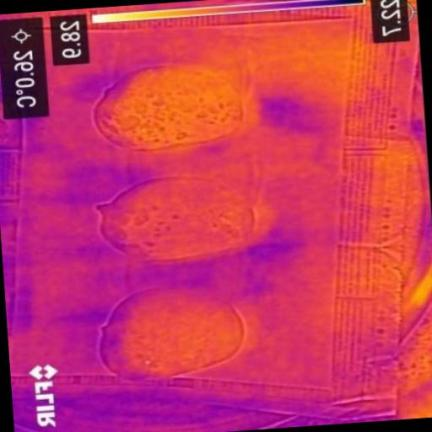mango: (101, 288, 245, 381), (98, 178, 256, 260), (95, 67, 242, 150)
